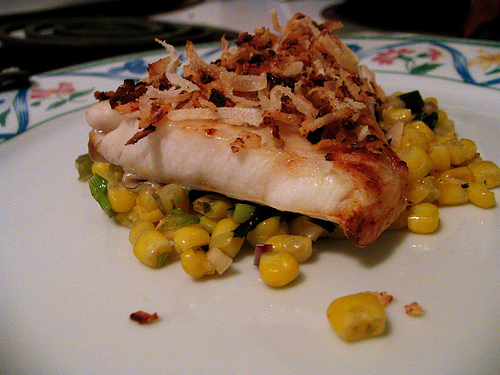corn: (90, 90, 498, 342)
